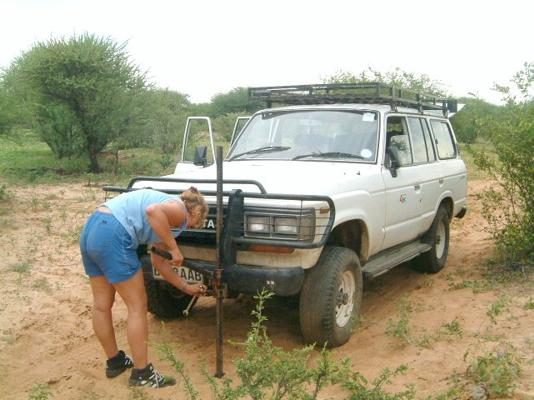person: (75, 187, 207, 393)
